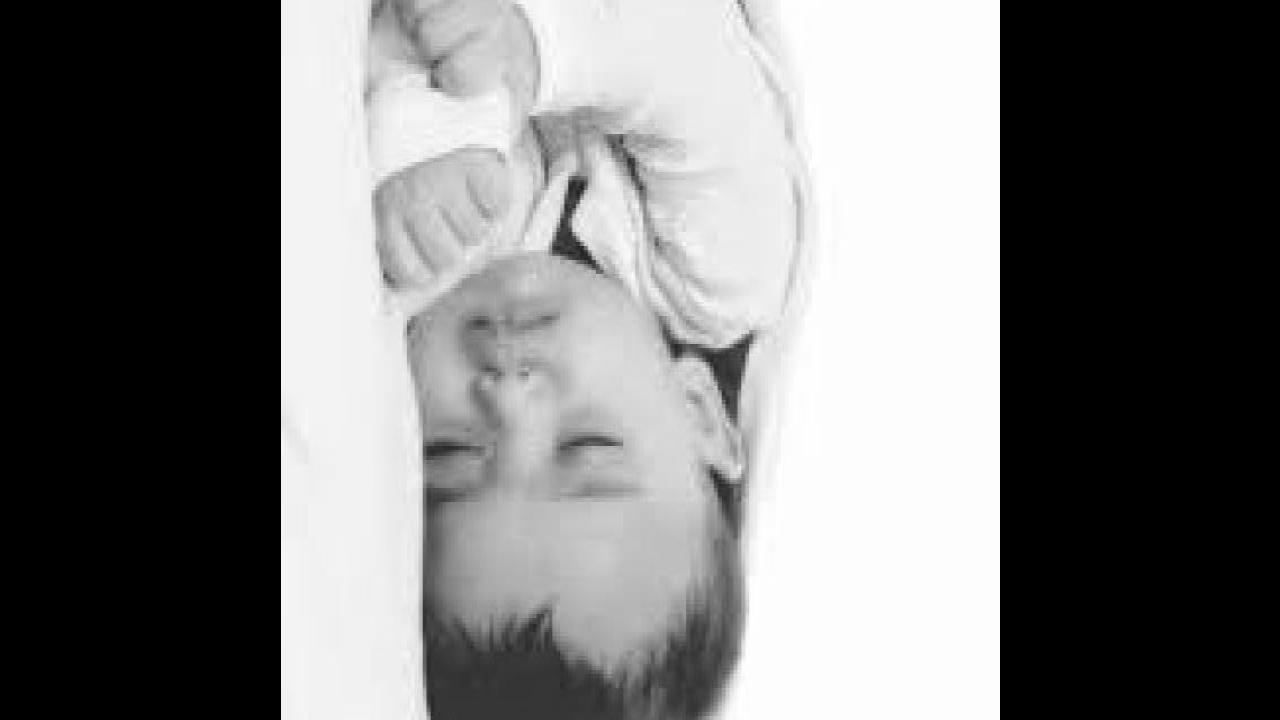hand: (370, 144, 510, 294), (371, 0, 535, 100)
